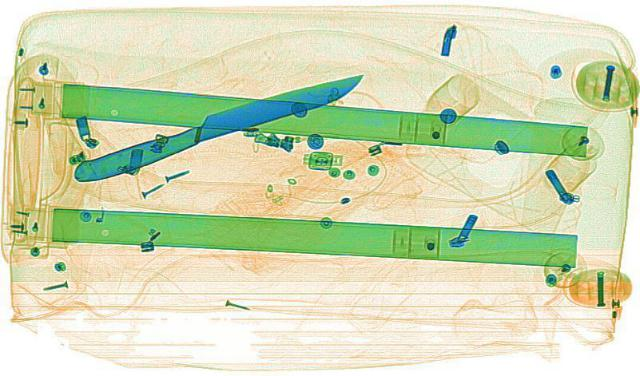Knife: (56, 66, 380, 185)
